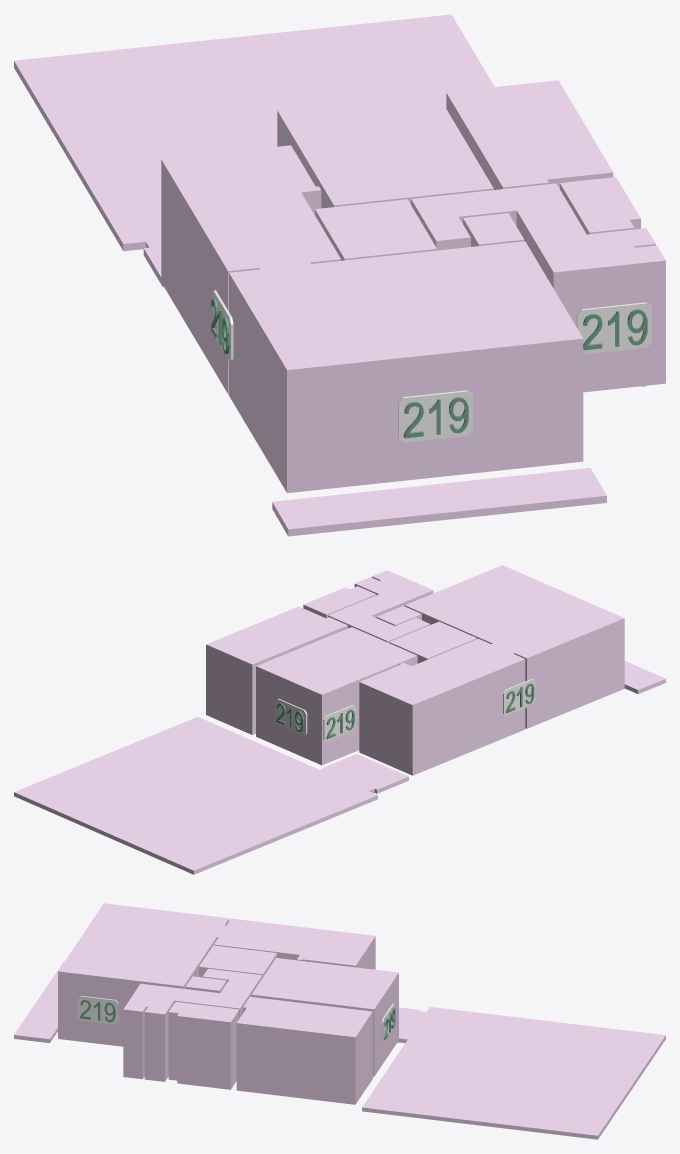
3 renders of one model, top to bottom at view 1: azimuth 30°, elevation 25°; view 2: azimuth 150°, elevation 25°; view 3: azimuth 270°, elevation 25°, orthographic. The views are drawn at different scales.
Parts seen in each view (by area): view 1: g_7, g_9, g_2, g_5, g_1, g_0, g_8, g_3, g_6, g_13, g_25, g_4; view 2: g_9, g_7, g_2, g_1, g_0, g_5, g_3, g_6, g_8, g_21, g_17, g_29 (+1 smaller); view 3: g_9, g_7, g_0, g_1, g_5, g_6, g_2, g_8, g_3, g_33, g_4.
Boxes of the visible parts, <box> form: g_7: <box>229,241,583,493</box>; g_9: <box>14,14,494,287</box>; g_2: <box>161,145,340,394</box>; g_5: <box>411,183,665,392</box>; g_1: <box>277,93,493,208</box>; g_0: <box>446,80,613,189</box>; g_8: <box>272,468,606,536</box>; g_3: <box>315,199,437,260</box>; g_6: <box>560,177,640,234</box>; g_13: <box>398,390,473,442</box>; g_25: <box>576,302,651,354</box>; g_4: <box>463,213,524,246</box>; g_9: <box>14,717,408,874</box>; g_7: <box>404,565,624,728</box>; g_2: <box>359,639,525,775</box>; g_1: <box>256,627,417,765</box>; g_0: <box>206,606,347,734</box>; g_5: <box>328,570,433,642</box>; g_3: <box>389,621,477,663</box>; g_6: <box>303,586,376,617</box>; g_8: <box>624,661,665,693</box>; g_21: <box>275,698,307,735</box>; g_17: <box>503,678,535,715</box>; g_29: <box>323,705,355,741</box>; g_9: <box>362,1007,665,1139</box>; g_7: <box>58,903,229,1046</box>; g_0: <box>236,996,372,1104</box>; g_1: <box>251,958,398,1076</box>; g_5: <box>123,968,262,1081</box>; g_6: <box>168,1002,239,1089</box>; g_2: <box>214,918,375,969</box>; g_8: <box>14,961,64,1042</box>; g_3: <box>199,945,277,977</box>; g_33: <box>77,995,118,1024</box>; g_4: <box>185,976,226,992</box>.
Size of the model in its own units: 14.24 by 2.74 by 22.53.
